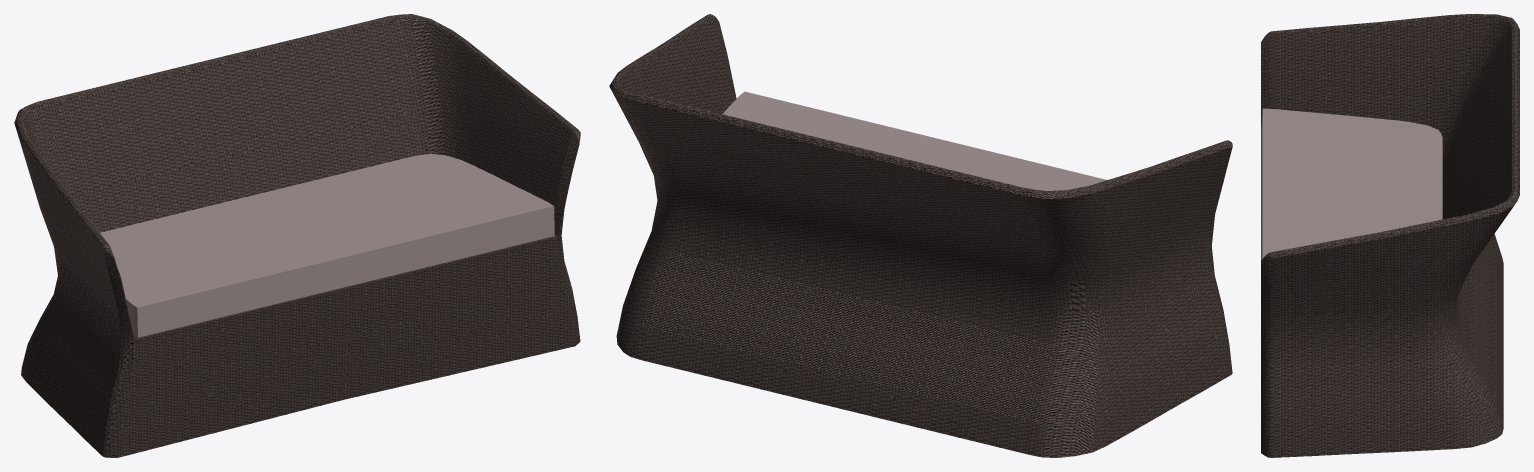
Rendered from niwazadoublesofa_nocolor.fbx.
3 views of the same model, side by side, from view 1: azimuth 30°, elevation 25°; view 2: azimuth 150°, elevation 25°; view 3: azimuth 270°, elevation 25° (orthographic). The views are drawn at different scales.
Parts seen in each view (by area): view 1: 庭座ダブルソファ.002; view 2: 庭座ダブルソファ.002; view 3: 庭座ダブルソファ.002.
Boxes of the visible parts, x1,y1,x2,y2 form: 庭座ダブルソファ.002: (14, 14, 580, 457); 庭座ダブルソファ.002: (609, 14, 1232, 457); 庭座ダブルソファ.002: (1261, 14, 1519, 457).
Size of the model in its own units: 136 by 67 by 66.06.
Materials: 2 (1 with a texture image).
